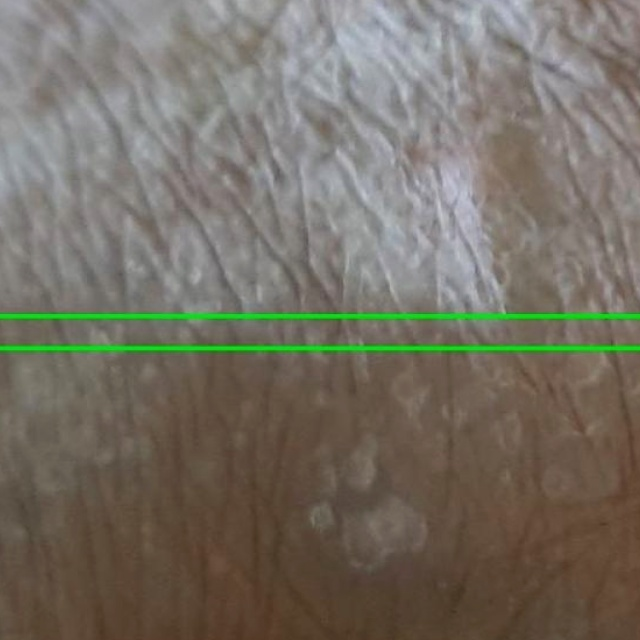Eczema: (0, 0, 639, 348), (0, 316, 639, 639)
